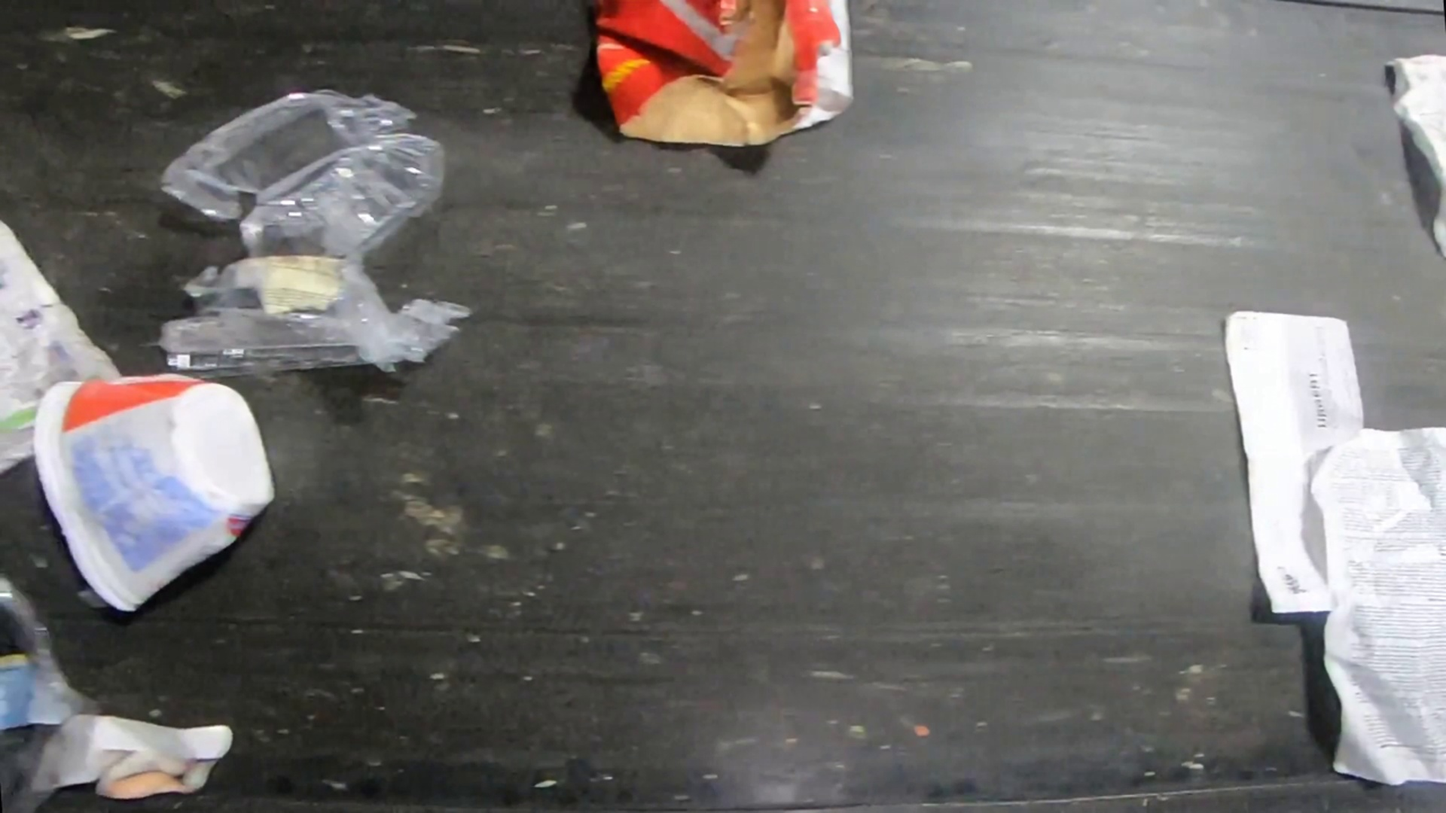cardboard: (591, 0, 855, 148)
plastic: (159, 89, 478, 382), (29, 372, 280, 615), (0, 566, 101, 813)
